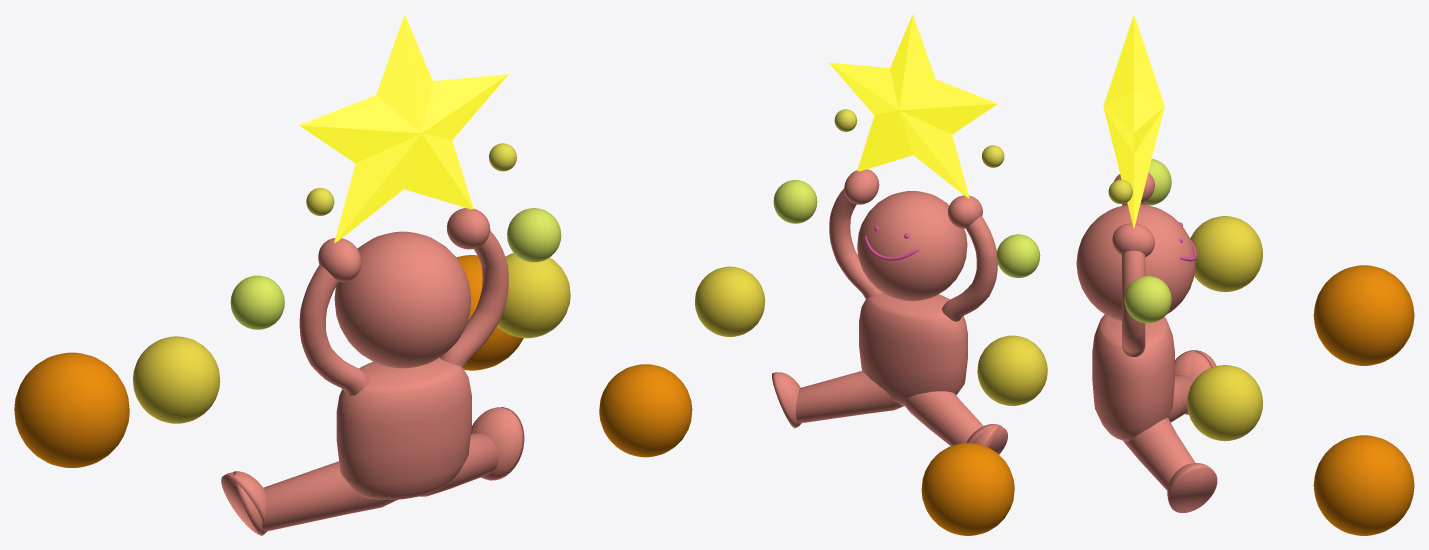
File: IchibanboshiModeling.glb
3 views of the same model, side by side, from view 1: azimuth 30°, elevation 25°; view 2: azimuth 150°, elevation 25°; view 3: azimuth 270°, elevation 25° (orthographic). The views are drawn at different scales.
Visible parts, largest first — view 1: Cone, Karada, Atama, OokiiTama.001, ShitanoTama.001, HidariHutomomo, ShitanoTama, HidariUde, MigiUde, NakanoTama.001, NakanoTama, MigiAshi.001 (+5 smaller); view 2: Cone, Karada, Atama, OokiiTama.001, OokiiTama, ShitanoTama.001, ShitanoTama, Migihutomomo001, HidariHutomomo, HidariUde, MigiUde, NakanoTama.001 (+4 smaller); view 3: OokiiTama, OokiiTama.001, Karada, Atama, Cone, ShitanoTama, ShitanoTama.001, Migihutomomo001, MigiAshi.001, NakanoTama, MigiUde, Migite (+5 smaller).
Part boxes in pixels (box(x1,y1,x2,y2)): Cone: box(299, 14, 508, 242); Karada: box(336, 357, 471, 499); Atama: box(334, 231, 471, 368); OokiiTama.001: box(14, 352, 129, 467); ShitanoTama.001: box(133, 336, 220, 423); HidariHutomomo: box(262, 461, 397, 531); ShitanoTama: box(497, 253, 570, 338); HidariUde: box(299, 265, 368, 395); MigiUde: box(440, 230, 508, 367); NakanoTama.001: box(230, 275, 284, 329); NakanoTama: box(507, 208, 561, 262); MigiAshi.001: box(471, 407, 524, 480); Cone: box(829, 14, 997, 198); Karada: box(859, 292, 967, 405); Atama: box(857, 191, 967, 301); OokiiTama.001: box(921, 443, 1014, 535); OokiiTama: box(599, 364, 692, 457); ShitanoTama.001: box(977, 335, 1047, 405); ShitanoTama: box(695, 266, 764, 336); Migihutomomo001: box(795, 371, 903, 423); HidariHutomomo: box(904, 391, 983, 445); HidariUde: box(942, 216, 997, 321); MigiUde: box(829, 188, 882, 299); NakanoTama.001: box(996, 234, 1040, 277); OokiiTama: box(1313, 435, 1414, 535); OokiiTama.001: box(1313, 265, 1414, 365); Karada: box(1092, 314, 1174, 441); Atama: box(1076, 204, 1195, 321); Cone: box(1103, 14, 1164, 227); ShitanoTama: box(1187, 365, 1262, 441); ShitanoTama.001: box(1190, 216, 1262, 291); Migihutomomo001: box(1123, 417, 1195, 490); MigiAshi.001: box(1167, 463, 1217, 512); NakanoTama: box(1124, 276, 1171, 323); MigiUde: box(1122, 250, 1145, 356); Migite: box(1112, 223, 1154, 256).
Size of the model in its own units: 2.03 by 2 by 1.36.
